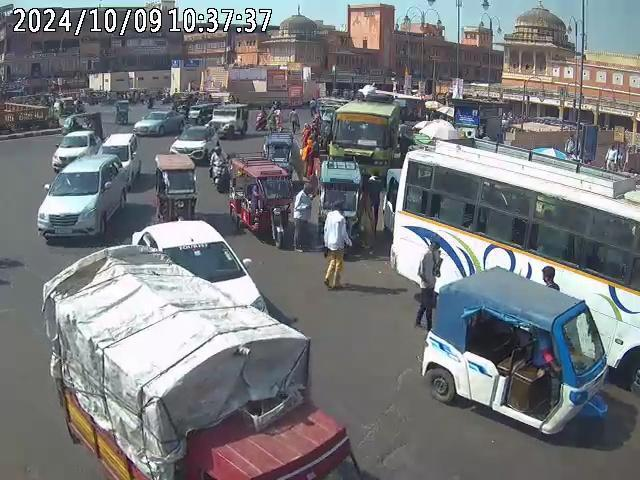auto: (418, 267, 610, 444), (228, 157, 294, 244), (318, 154, 362, 240), (153, 150, 198, 222)
bus: (390, 137, 640, 379), (326, 89, 400, 182)
car: (129, 218, 271, 322), (37, 151, 128, 244), (100, 131, 140, 186), (50, 129, 101, 170), (170, 124, 219, 163), (210, 104, 251, 140)
license_plate: (56, 228, 74, 235)
lorry: (41, 244, 359, 480)
person: (320, 202, 351, 289), (292, 181, 316, 250)
scooty-rider: (208, 148, 232, 193)
